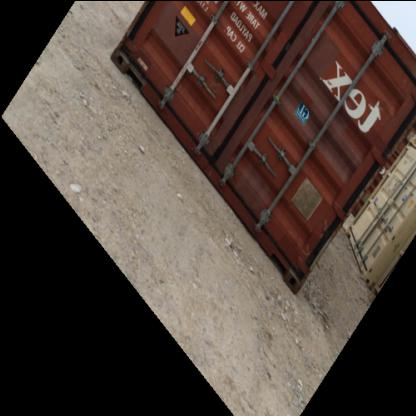Damage: (234, 167, 262, 211)
